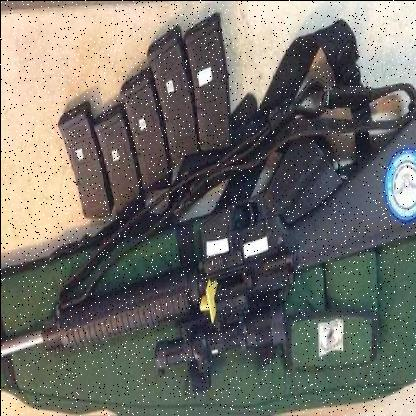rifle: (1, 89, 416, 416)
